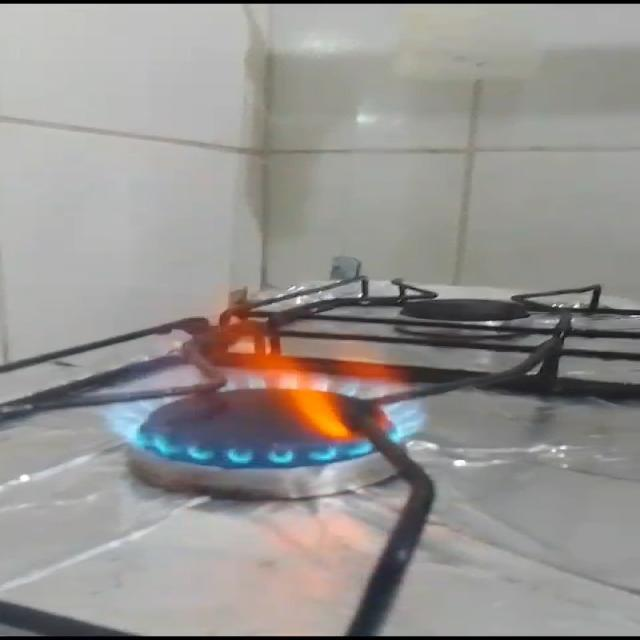fogo-ypXI: (95, 284, 432, 470)
